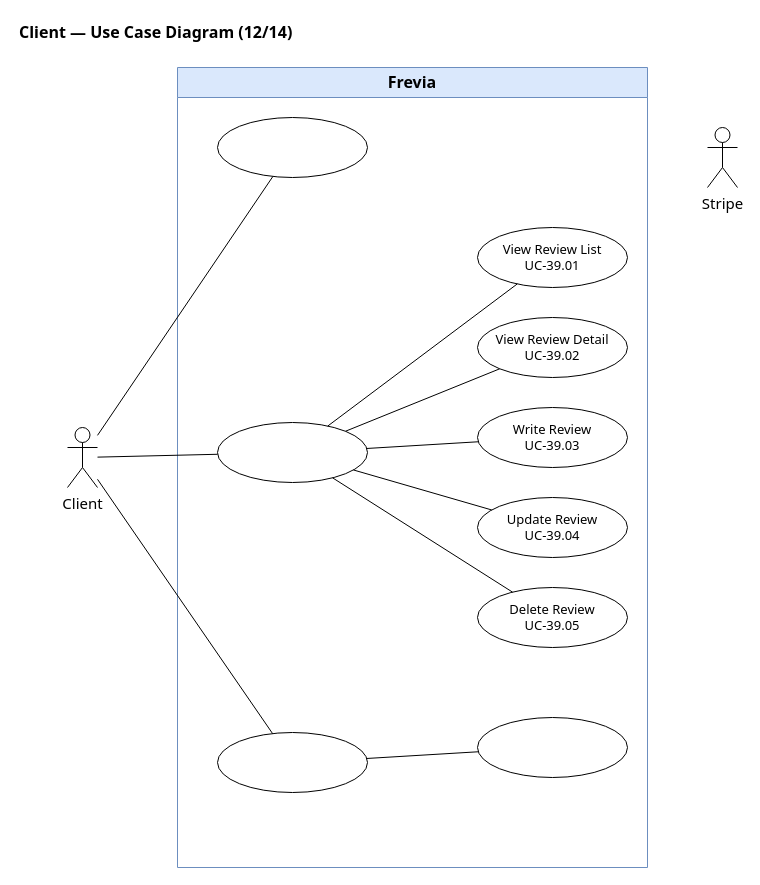
Some shapes in this 760 by 885 pixel diagram are drawn without their labels. Each missing label, with the centre of its shape:
"Respond to Dispute Resolution UC-33.05" goes at (x=292, y=147).
"Respond to Review UC-40.01" goes at (x=552, y=747).
"Review Management UC-39" goes at (x=292, y=452).
"Review Response Management UC-40" goes at (x=292, y=762).
